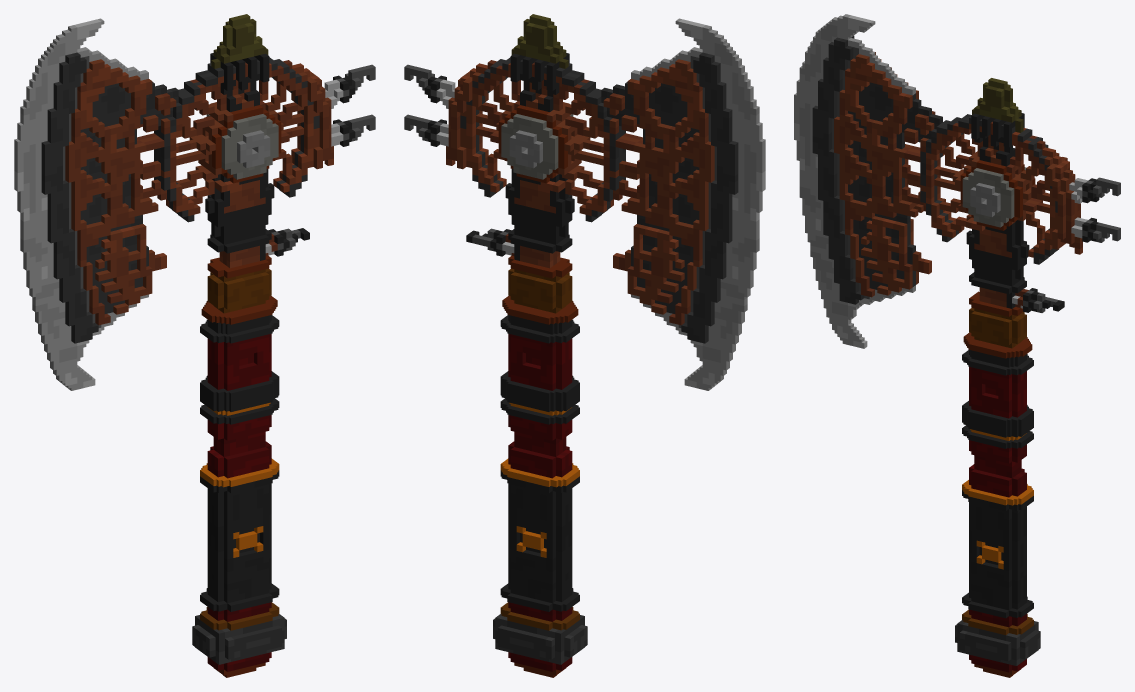
The model's file is AXE.glb.
3 renders of one model, left to right at view 1: azimuth 30°, elevation 25°; view 2: azimuth 150°, elevation 25°; view 3: azimuth 330°, elevation 25°, orthographic. The views are drawn at different scales.
Parts seen in each view (by area): view 1: model; view 2: model; view 3: model.
Boxes of the visible parts, x1,y1,x2,y2 form: model: (14, 14, 375, 677); model: (404, 14, 765, 677); model: (794, 14, 1120, 677).
Size of the model in its own units: 12 by 22 by 1.8.
